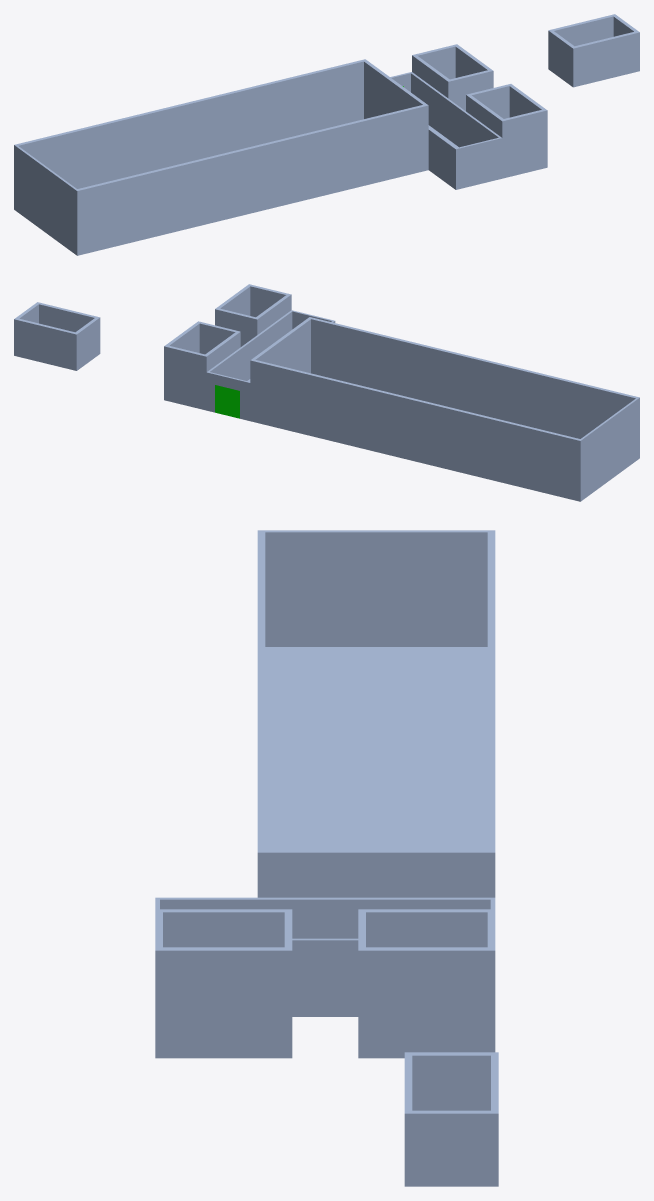
File: Raw_Water_Pump_House_expansion.glb
3 views of the same model, one above another, from view 1: azimuth 30°, elevation 25°; view 2: azimuth 150°, elevation 25°; view 3: azimuth 270°, elevation 25° (orthographic). The views are drawn at different scales.
Visible parts, largest first — view 1: Floor1; view 2: Floor1; view 3: Floor1.
Part boxes in pixels (box(x1,y1,x2,y2)): Floor1: box(14, 14, 639, 255); Floor1: box(14, 284, 639, 501); Floor1: box(155, 530, 498, 1186).
Size of the model in its own units: 68.11 by 7.8 by 17.9.
